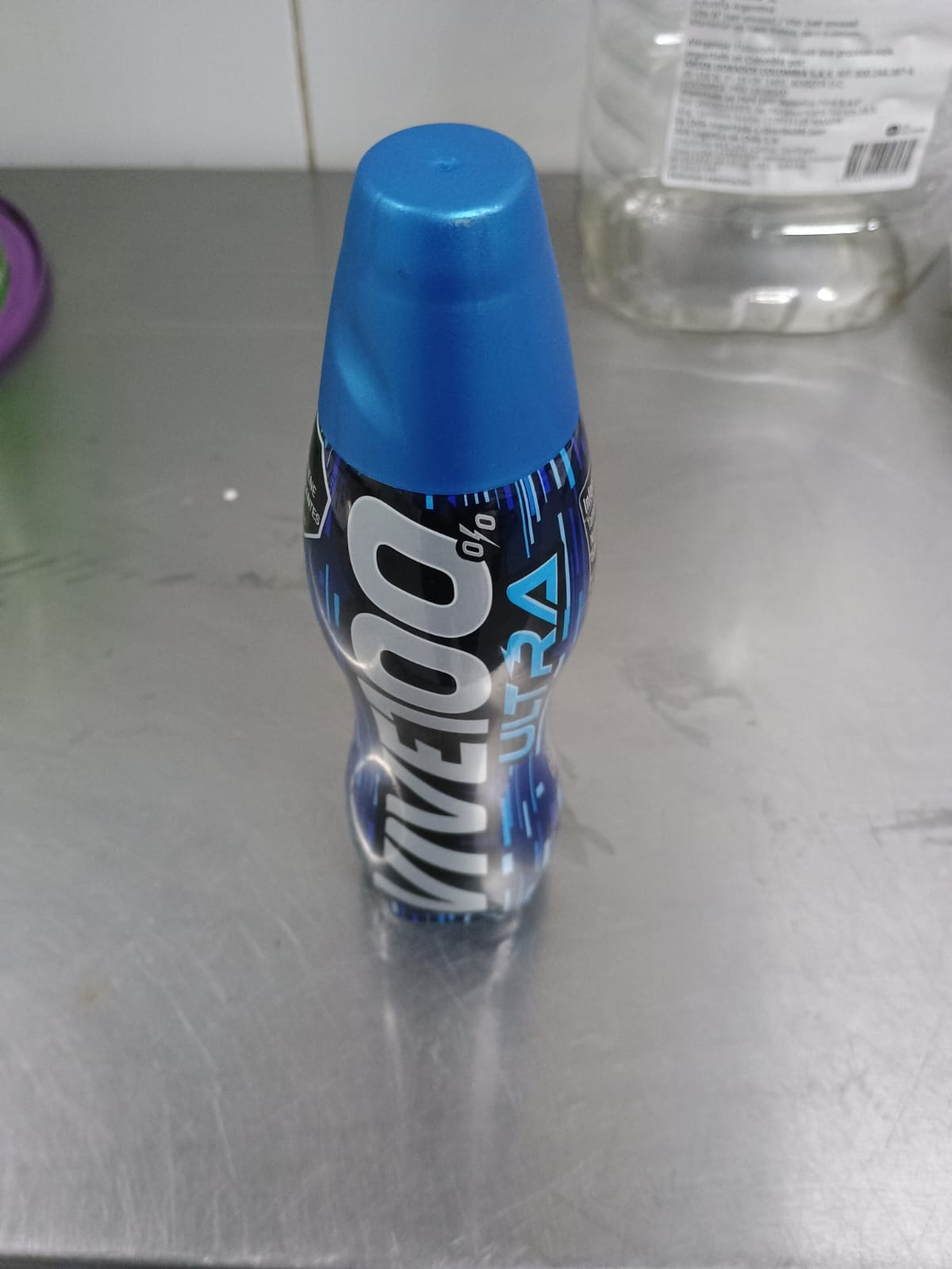Plastico: (299, 122, 595, 943)
